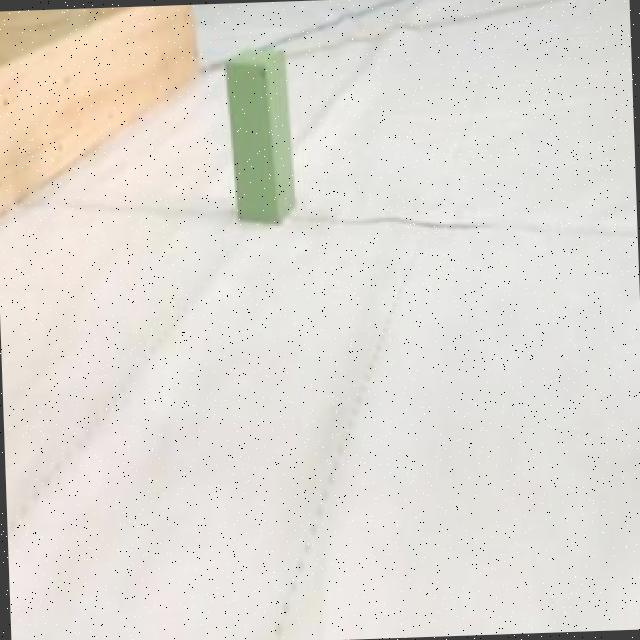greenbox: (219, 47, 295, 224)
